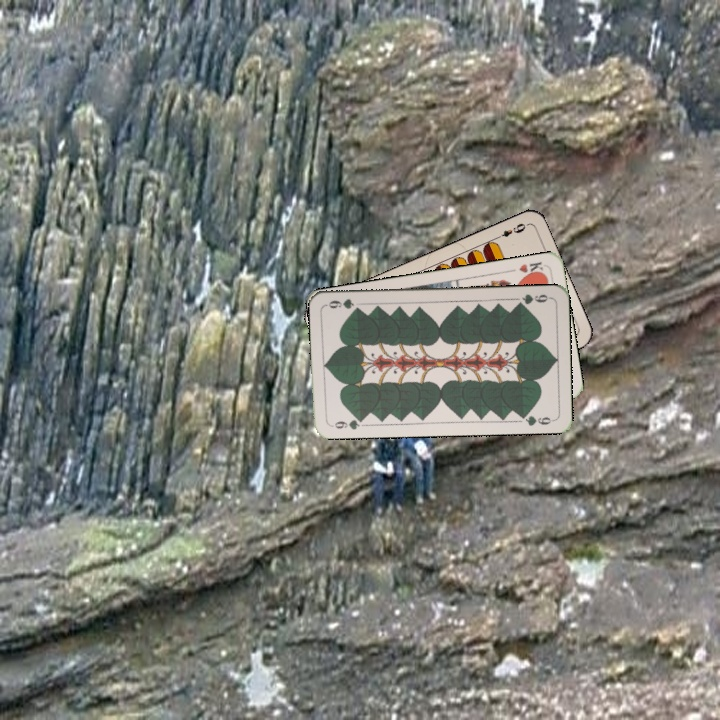E9: (491, 219, 530, 242)
G9: (512, 290, 553, 308), (327, 414, 367, 432)
HK: (515, 258, 546, 279)
